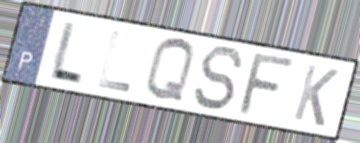F: (234, 52, 299, 118)
K: (290, 61, 341, 130)
L: (46, 19, 86, 87), (95, 28, 133, 94)
Q: (142, 35, 197, 106)
S: (192, 43, 247, 113)
